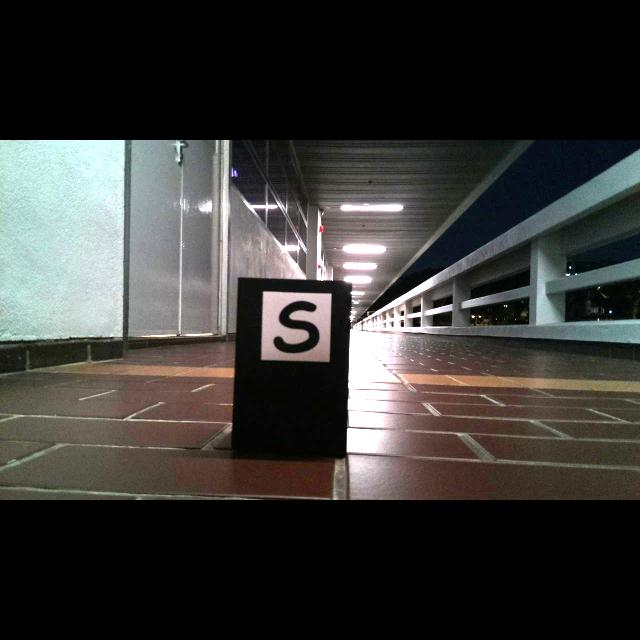S: (273, 300, 320, 354)
